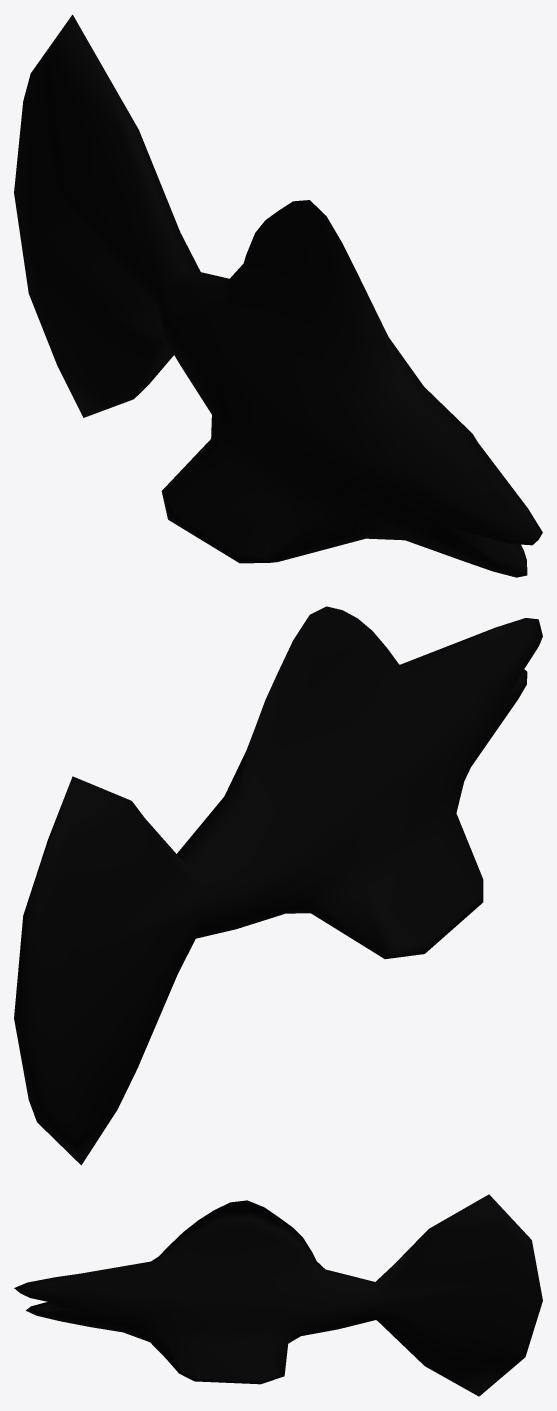
File: FishBody.obj
The picture shows the model from 3 angles, top to bottom: view 1: azimuth 30°, elevation 25°; view 2: azimuth 150°, elevation 25°; view 3: azimuth 270°, elevation 25°; orthographic projection. The views are drawn at different scales.
Visible parts, largest first — view 1: 立方体; view 2: 立方体; view 3: 立方体.
Part boxes in pixels (x1=…): 立方体: x1=14, y1=14, x2=542, y2=577; 立方体: x1=14, y1=606, x2=542, y2=1165; 立方体: x1=14, y1=1194, x2=542, y2=1396.
Bounding box in the file's own units: 3.79 × 5.59 × 13.26.
Materials: 1 (1 with a texture image).
